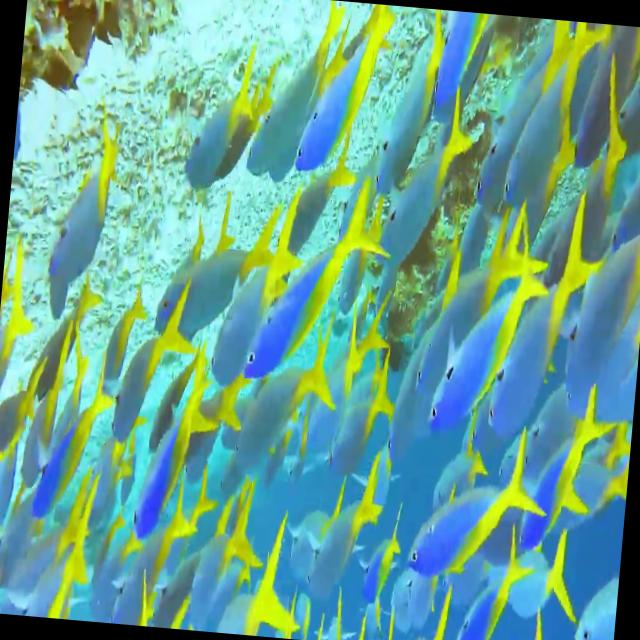fish: (383, 219, 517, 477), (242, 185, 385, 389), (423, 232, 551, 442), (483, 208, 594, 446), (500, 16, 618, 220), (404, 424, 546, 586), (215, 329, 334, 506), (242, 0, 350, 183), (375, 100, 479, 282), (290, 0, 398, 175), (156, 211, 280, 347), (514, 391, 612, 556), (130, 372, 222, 542), (110, 278, 196, 448), (37, 359, 118, 522), (302, 462, 388, 599), (182, 62, 256, 200), (424, 9, 493, 128), (98, 276, 150, 398), (384, 300, 388, 326)
